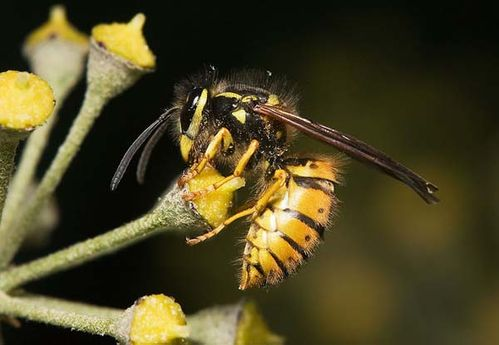chax: (100, 57, 453, 313)
